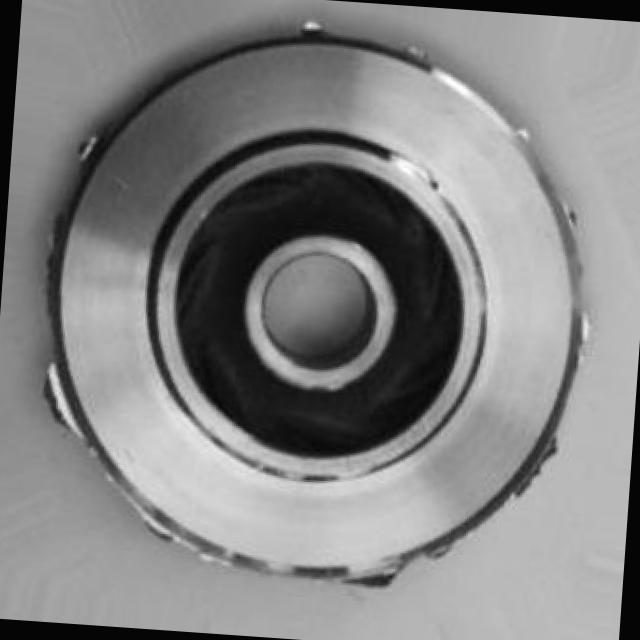Defect: (343, 560, 427, 599)
